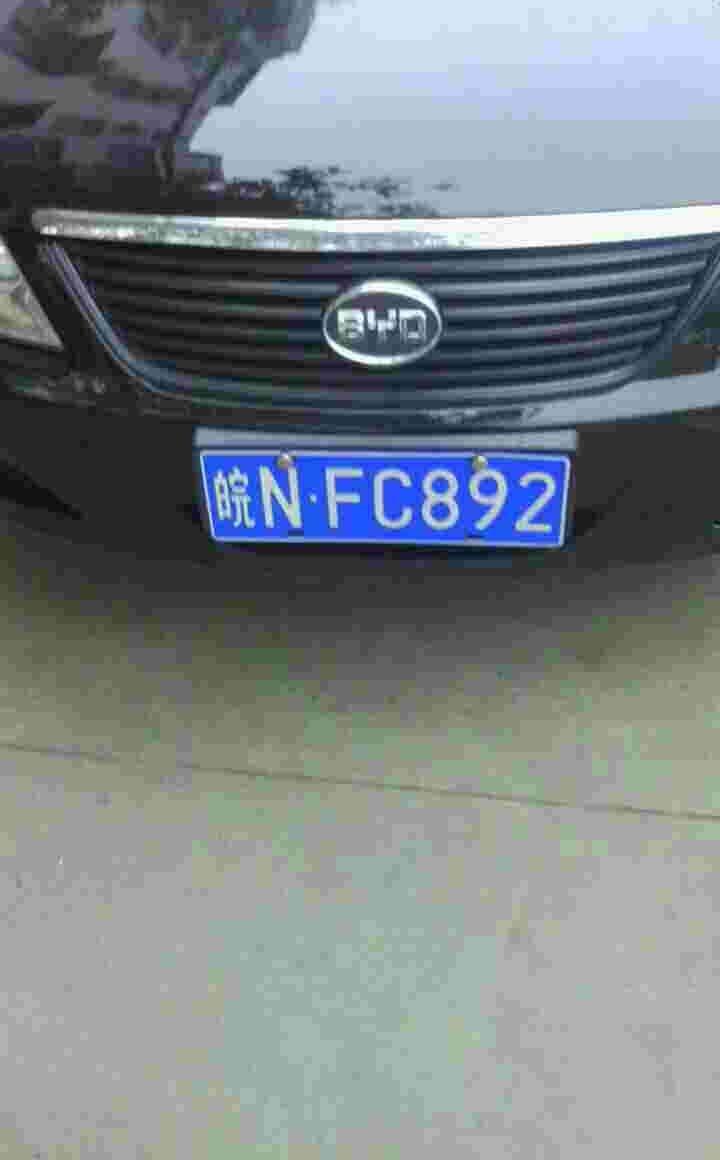license_plate: (203, 445, 579, 548)
